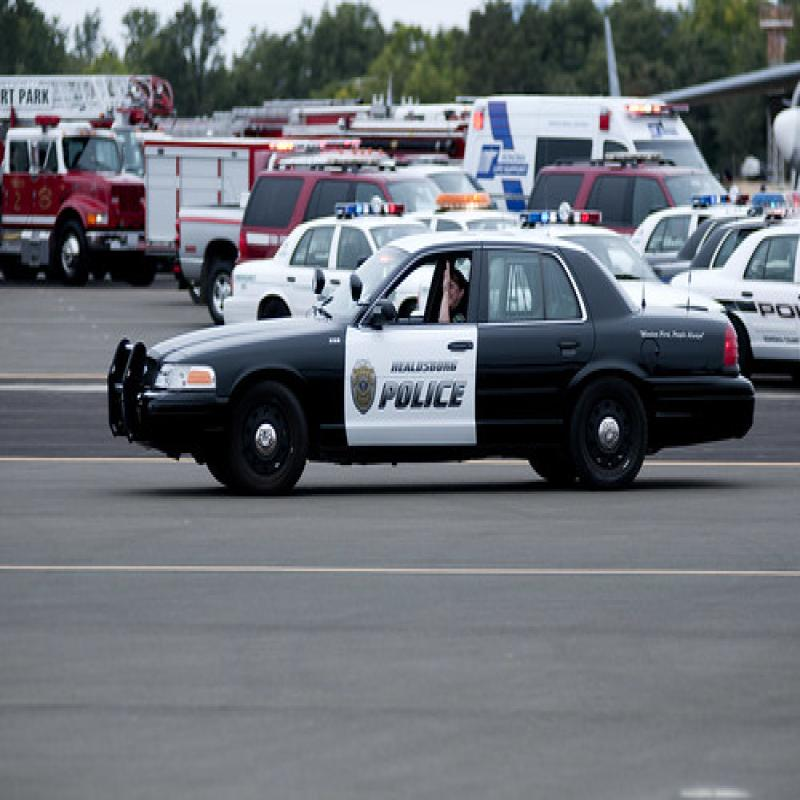AmbulanceSiren: (334, 183, 414, 222), (520, 203, 612, 235), (430, 179, 496, 219), (622, 97, 706, 127)
